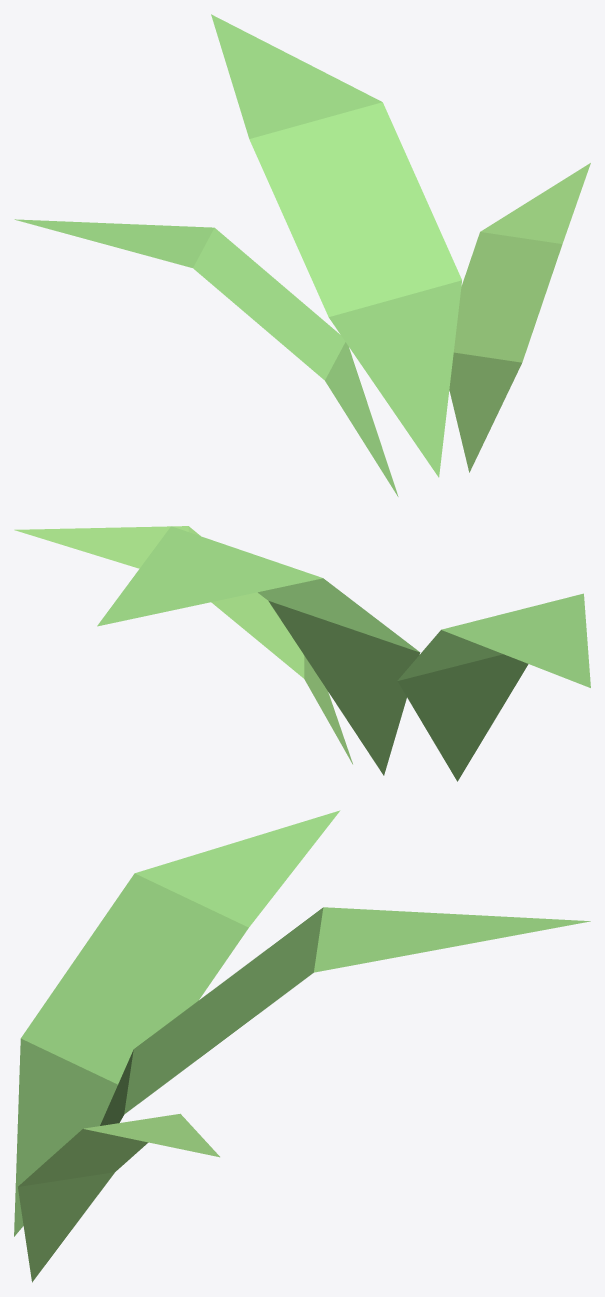
Rendered from Plant_b_TwoS_03.fbx.
3 views of the same model, one above another, from view 1: azimuth 30°, elevation 25°; view 2: azimuth 150°, elevation 25°; view 3: azimuth 270°, elevation 25° (orthographic). The views are drawn at different scales.
Parts seen in each view (by area): view 1: Plant_b_TwoS_03; view 2: Plant_b_TwoS_03; view 3: Plant_b_TwoS_03.
Part boxes in pixels (x1,y1,x2,y2): Plant_b_TwoS_03: [14, 14, 590, 496]; Plant_b_TwoS_03: [14, 526, 590, 781]; Plant_b_TwoS_03: [14, 810, 590, 1282].
Bounding box in the file's own units: 56.76 × 30.14 × 45.3.
